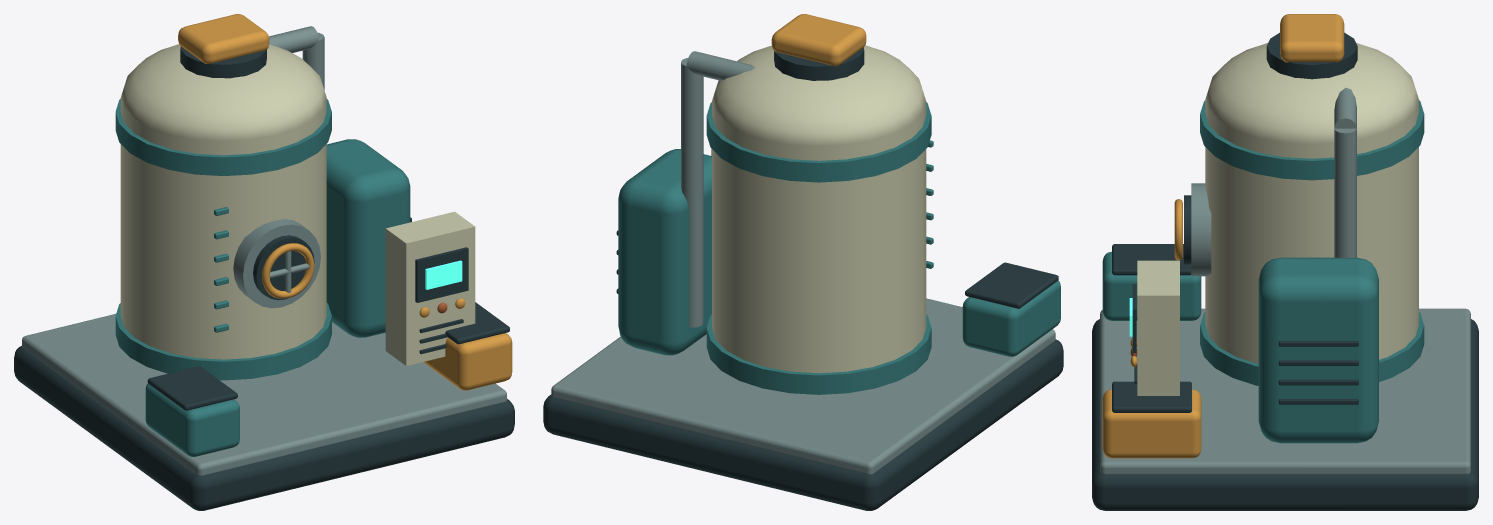
The model's file is reactor.glb.
3 renders of one model, left to right at view 1: azimuth 30°, elevation 25°; view 2: azimuth 150°, elevation 25°; view 3: azimuth 270°, elevation 25°, orthographic. The views are drawn at different scales.
Parts seen in each view (by area): view 1: Batched static factory; view 2: Batched static factory; view 3: Batched static factory.
Part boxes in pixels (x1,y1,x2,y2): Batched static factory: [14, 14, 514, 510]; Batched static factory: [543, 14, 1063, 510]; Batched static factory: [1092, 14, 1478, 510].
Size of the model in its own units: 2.92 by 3.24 by 2.9.
